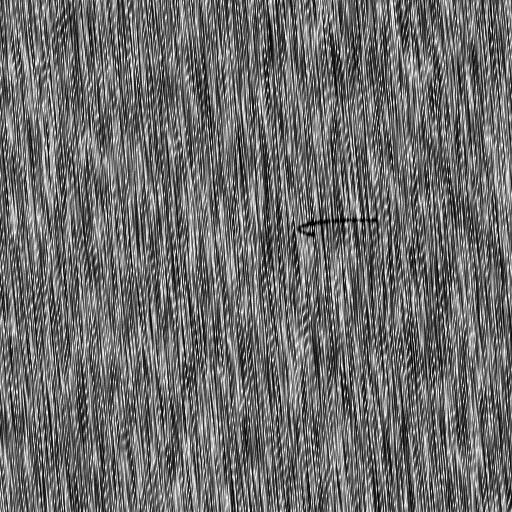DefectTypeC: (295, 217, 378, 236)
